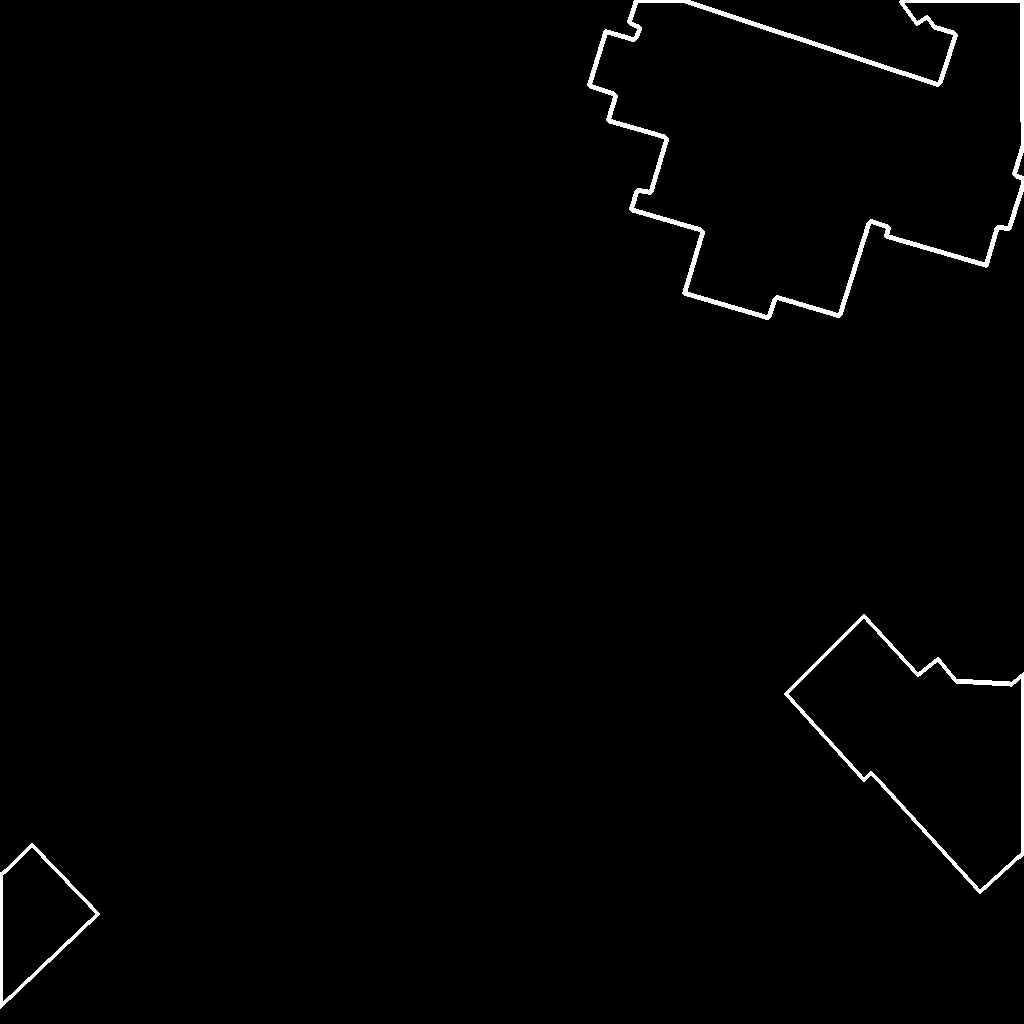building: (589, 0, 1024, 319), (786, 616, 1024, 893), (0, 845, 99, 1008)
